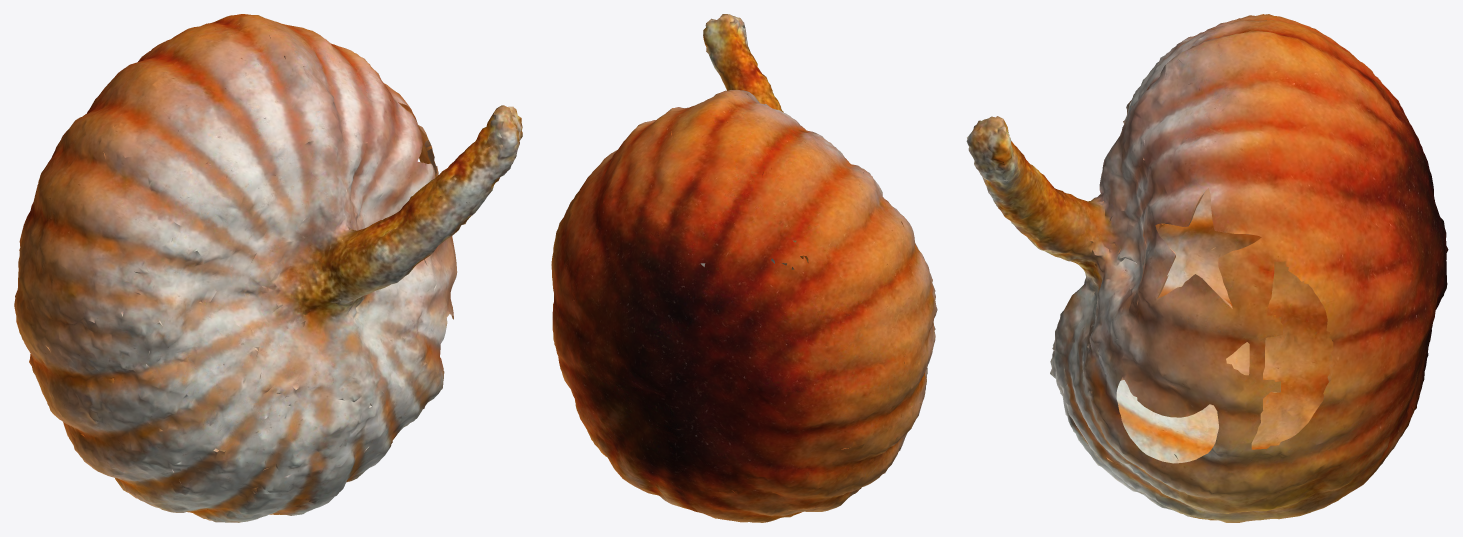
File: pumpkin_after.gltf
The picture shows the model from 3 angles, left to right: view 1: azimuth 30°, elevation 25°; view 2: azimuth 150°, elevation 25°; view 3: azimuth 270°, elevation 25°; orthographic projection. The views are drawn at different scales.
Visible parts, largest first — view 1: pumpkin_star_moon; view 2: pumpkin_star_moon; view 3: pumpkin_star_moon.
Part boxes in pixels (x1,y1,x2,y2): pumpkin_star_moon: (14, 14, 522, 522); pumpkin_star_moon: (551, 14, 937, 522); pumpkin_star_moon: (966, 14, 1448, 522).
Bounding box in the file's own units: 0.8379 × 0.938 × 0.848.
Materials: 1 (1 with a texture image).
